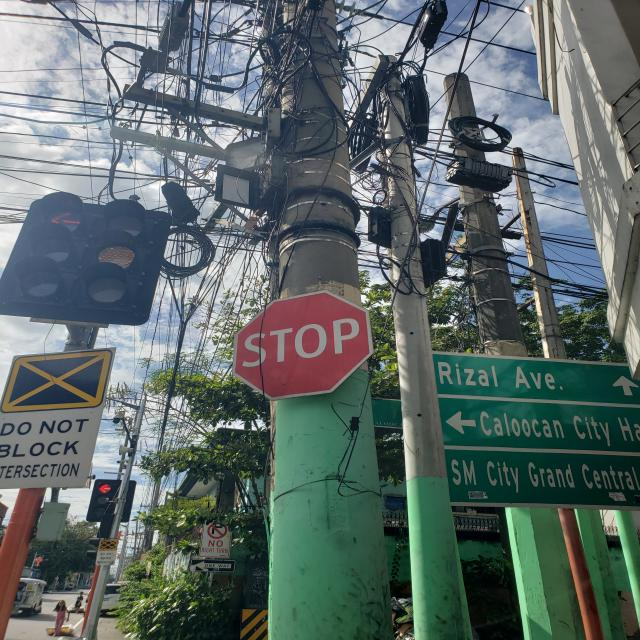stop-sign: (232, 290, 374, 401)
